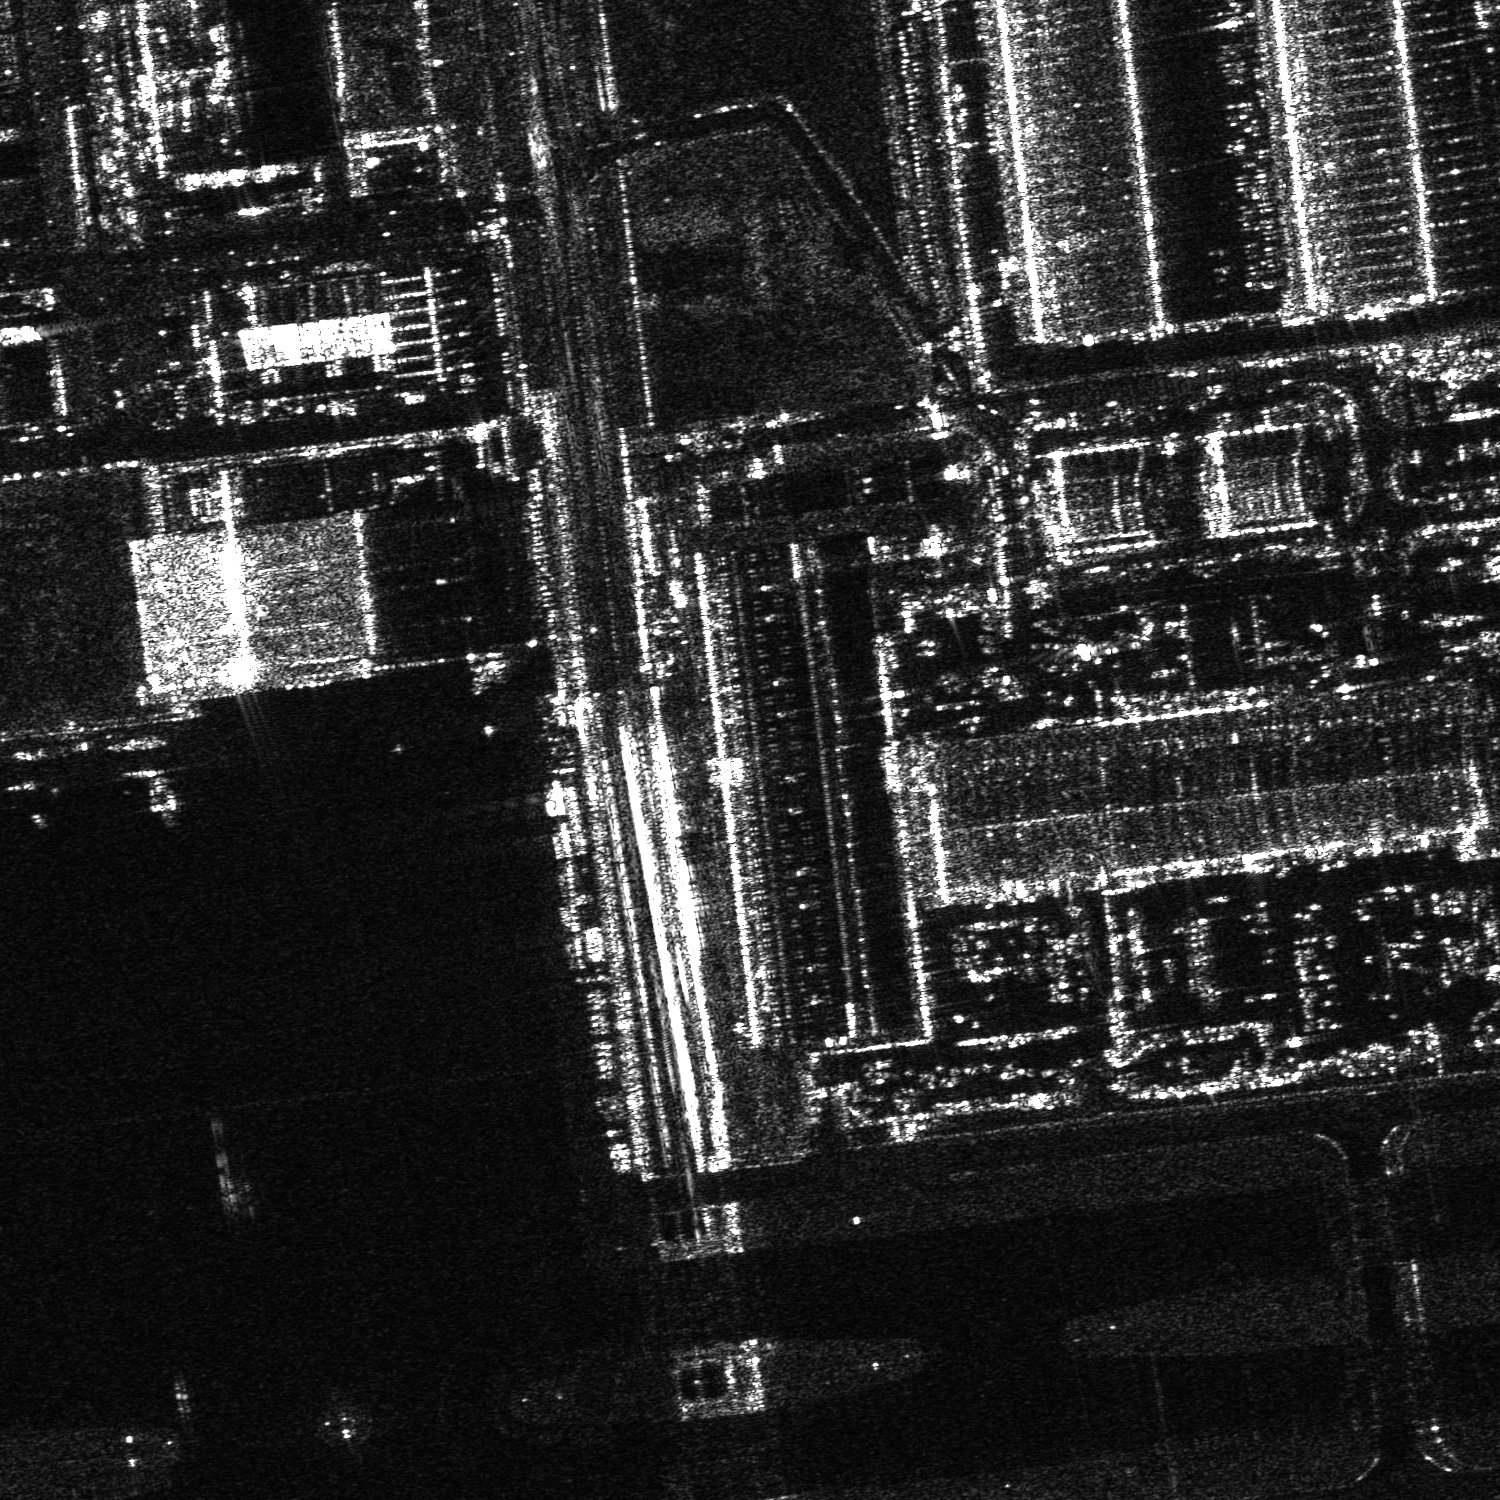A330: (317, 1391, 370, 1440)
